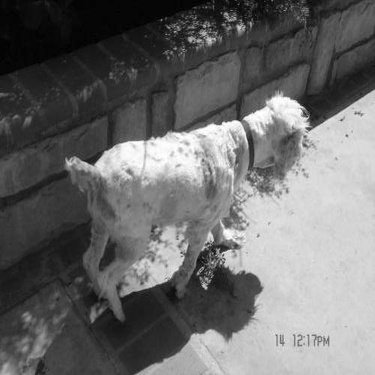dog: (55, 87, 314, 329)
